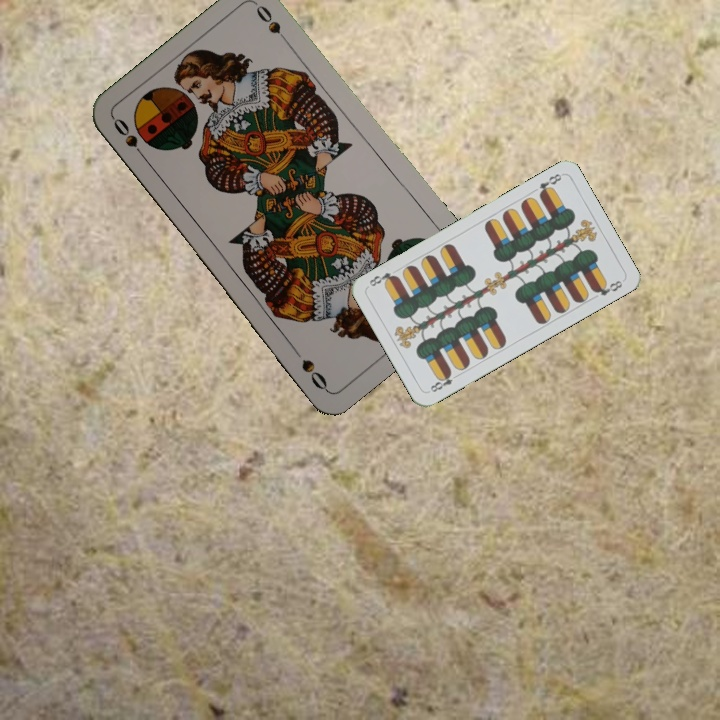E8: (426, 367, 462, 395), (535, 169, 564, 199)
SO: (109, 113, 151, 165)
